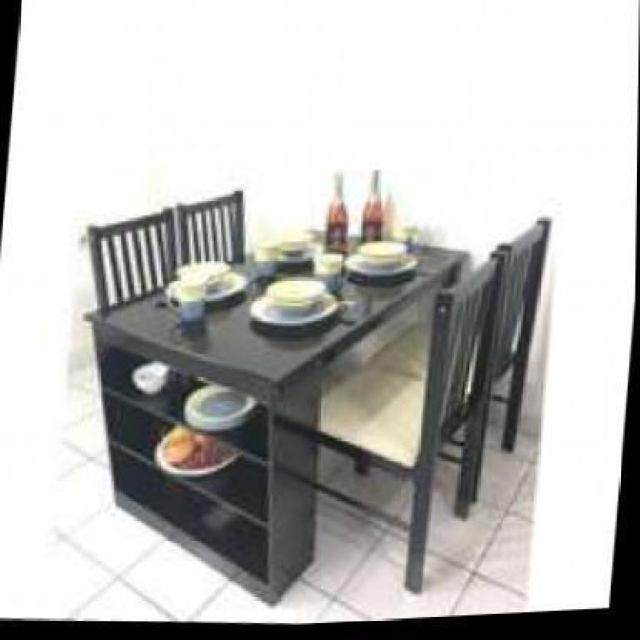tables: (82, 230, 470, 604)
